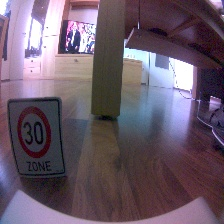dreisiger_zone: (7, 97, 67, 176)
